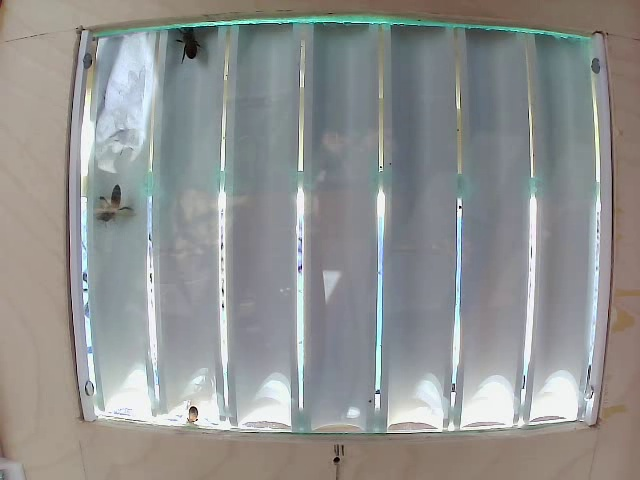bee: (174, 18, 220, 75), (102, 181, 135, 231)
